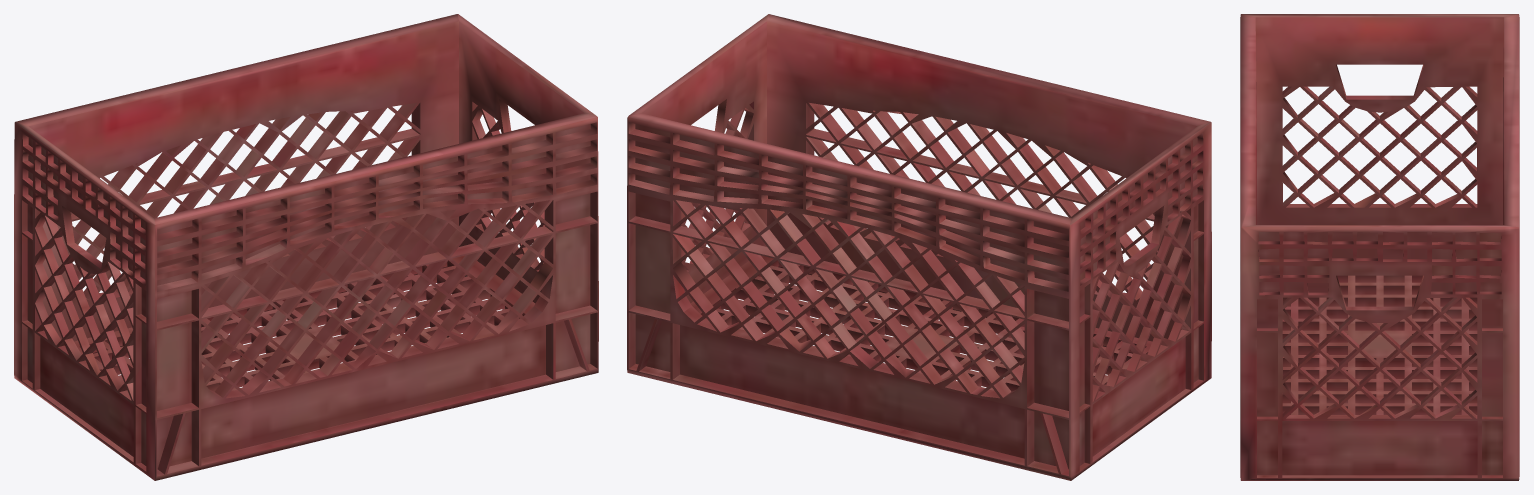
Rendered from plastic_crate_03.glb.
3 views of the same model, side by side, from view 1: azimuth 30°, elevation 25°; view 2: azimuth 150°, elevation 25°; view 3: azimuth 270°, elevation 25° (orthographic).
Parts seen in each view (by area): view 1: plastic_crate_03; view 2: plastic_crate_03; view 3: plastic_crate_03.
Part boxes in pixels (left/top/right/bottom): plastic_crate_03: left=14, top=14, right=598, bottom=480; plastic_crate_03: left=627, top=14, right=1211, bottom=480; plastic_crate_03: left=1240, top=14, right=1519, bottom=480.
Bounding box in the file's own units: 0.4811 × 0.2652 × 0.265.
Materials: 1 (1 with a texture image).
